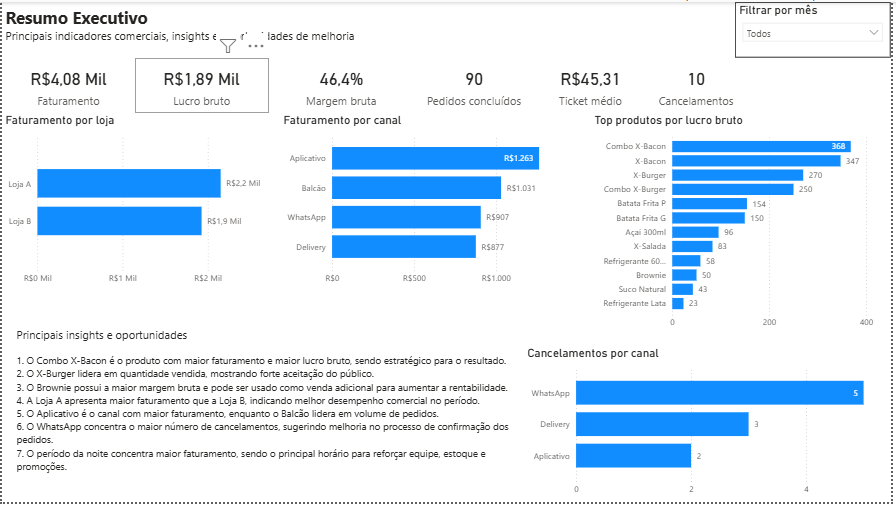

Layout of this report page (visuals, bound fields, positions):
{"tool":"powerbi","page":{"name":"Resumo Executivo","canvas":[1280,720],"ordinal":0},"visuals":[{"type":"textbox","box":[0,0,544,80],"z":1},{"type":"card","fields":{"Values":["Vendas.Faturamento"]},"box":[0,80,192,80],"z":2},{"type":"card","fields":{"Values":["Vendas.Lucro Bruto"]},"box":[192,80,192,80],"z":3},{"type":"card","fields":{"Values":["Vendas.Pedidos Concluídos"]},"box":[592,80,176,80],"z":4},{"type":"card","fields":{"Values":["Vendas.Margem Bruta %"]},"box":[384,80,208,80],"z":5},{"type":"card","fields":{"Values":["Vendas.Ticket Médio"]},"box":[768,80,160,80],"z":6},{"type":"card","fields":{"Values":["Vendas.Pedidos Cancelados"]},"box":[928,80,144,80],"z":7},{"type":"clusteredBarChart","title":"Faturamento por canal","fields":{"Category":["Vendas.Canal_Venda"],"Y":["Vendas.Faturamento"]},"box":[400,160,448,256],"z":8},{"type":"clusteredBarChart","title":"Faturamento por loja","fields":{"Category":["Vendas.Loja"],"Y":["Vendas.Faturamento"]},"box":[0,160,400,256],"z":9},{"type":"clusteredBarChart","title":"Top produtos por lucro bruto","fields":{"Category":["Produtos.Produto"],"Y":["Vendas.Lucro Bruto"]},"box":[848,160,416,320],"z":10},{"type":"clusteredBarChart","title":"Cancelamentos por canal","fields":{"Category":["Vendas.Canal_Venda"],"Y":["Vendas.Pedidos Cancelados"]},"box":[752,496,512,224],"z":11},{"type":"textbox","box":[16,464,720,240],"z":12},{"type":"slicer","title":"Filtrar por mês","fields":{"Values":["Calendario.Ano_Mes"]},"box":[1056,0,224,80],"z":13}]}

Visuals, with their boxes in screenshot pixels (x1, y1, x2, y2), scaled from the page's 1280x720 canvas onto the 896x506 screenshot:
textbox: box(0, 0, 381, 56)
card - Vendas.Faturamento: box(0, 56, 134, 112)
card - Vendas.Lucro Bruto: box(134, 56, 269, 112)
card - Vendas.Pedidos Concluídos: box(414, 56, 538, 112)
card - Vendas.Margem Bruta %: box(269, 56, 414, 112)
card - Vendas.Ticket Médio: box(538, 56, 650, 112)
card - Vendas.Pedidos Cancelados: box(650, 56, 750, 112)
"Faturamento por canal" clusteredBarChart: box(280, 112, 594, 292)
"Faturamento por loja" clusteredBarChart: box(0, 112, 280, 292)
"Top produtos por lucro bruto" clusteredBarChart: box(594, 112, 885, 337)
"Cancelamentos por canal" clusteredBarChart: box(526, 349, 885, 505)
textbox: box(11, 326, 515, 495)
"Filtrar por mês" slicer: box(739, 0, 895, 56)
